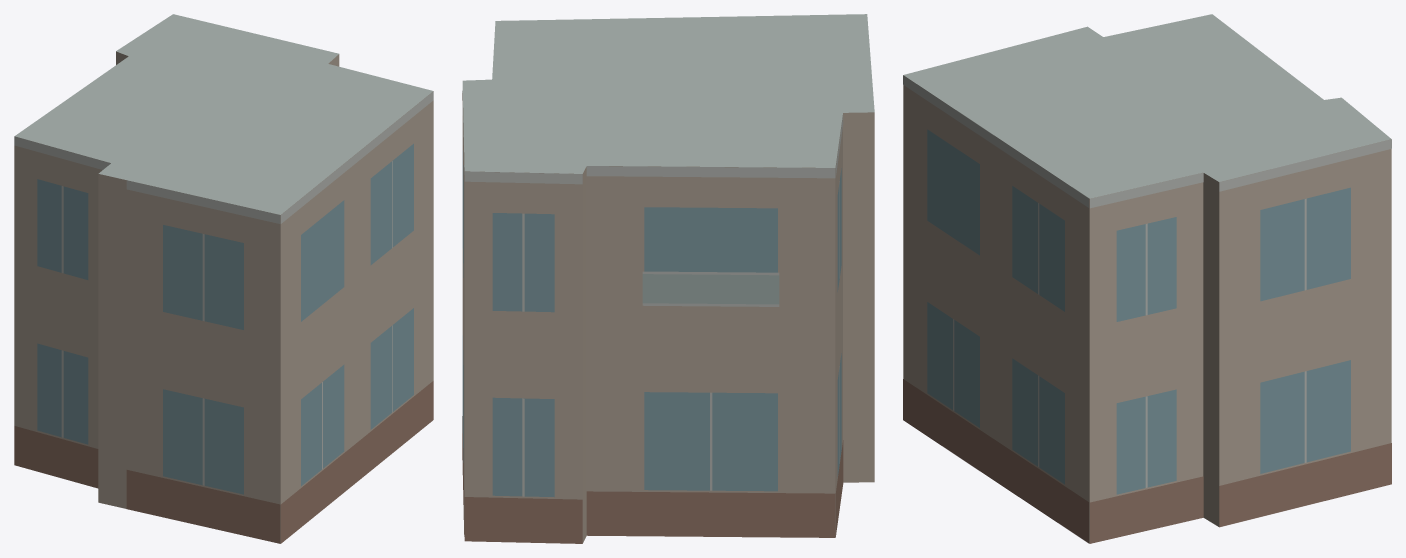
The model's file is survey-upis-32991629.glb.
3 views of the same model, side by side, from view 1: azimuth 30°, elevation 25°; view 2: azimuth 150°, elevation 25°; view 3: azimuth 270°, elevation 25° (orthographic). The views are drawn at different scales.
Visible parts, largest first — view 1: survey-upis-32991629.tmp; view 2: survey-upis-32991629.tmp; view 3: survey-upis-32991629.tmp.
Boxes of the visible parts, x1,y1,x2,y2 form: survey-upis-32991629.tmp: (14, 14, 433, 543); survey-upis-32991629.tmp: (462, 14, 874, 543); survey-upis-32991629.tmp: (903, 14, 1391, 543).
Bounding box in the file's own units: 10 × 8.7 × 11.17.
